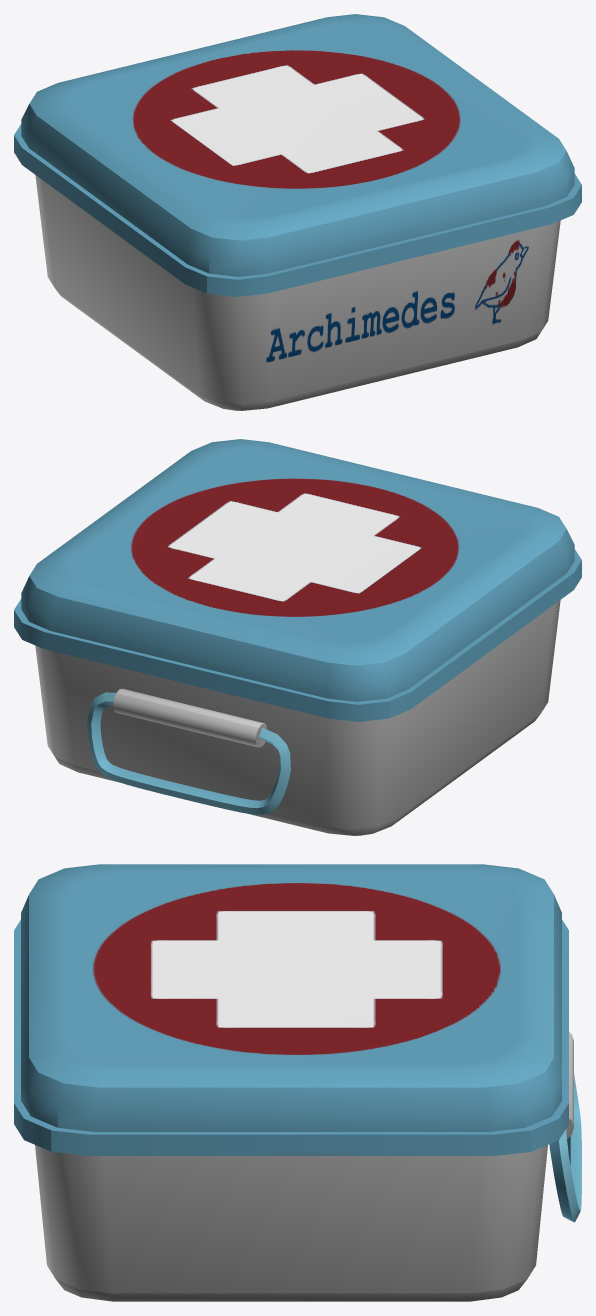
Rendered from Fixed_Item_MedKit_bloody_Ver1.fbx.
3 renders of one model, top to bottom at view 1: azimuth 30°, elevation 25°; view 2: azimuth 150°, elevation 25°; view 3: azimuth 270°, elevation 25°, orthographic. The views are drawn at different scales.
Parts seen in each view (by area): view 1: med kit bloody; view 2: med kit bloody; view 3: med kit bloody.
Boxes of the visible parts, bbox=[...] form: med kit bloody: bbox=[14, 14, 581, 410]; med kit bloody: bbox=[14, 439, 581, 835]; med kit bloody: bbox=[14, 864, 581, 1301].
Bounding box in the file's own units: 502 × 243 × 511.
3 materials, 3 textured.
